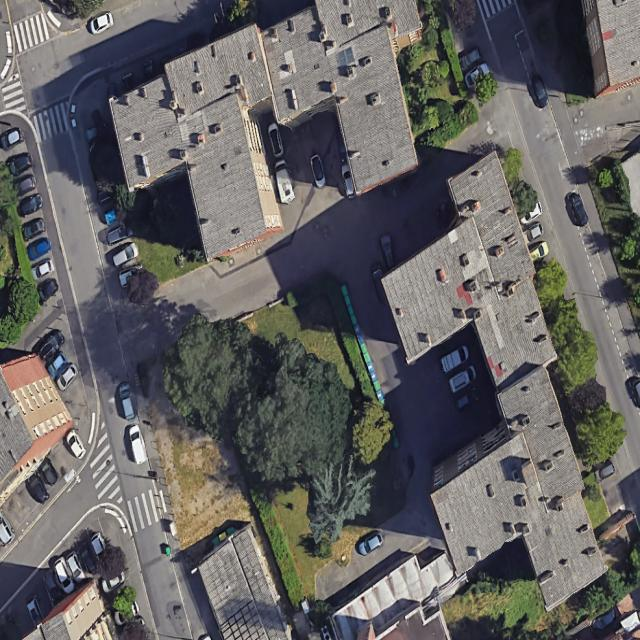immeuble: (85, 0, 479, 282), (401, 365, 617, 634), (349, 152, 568, 412), (0, 354, 73, 505), (581, 0, 639, 96)
